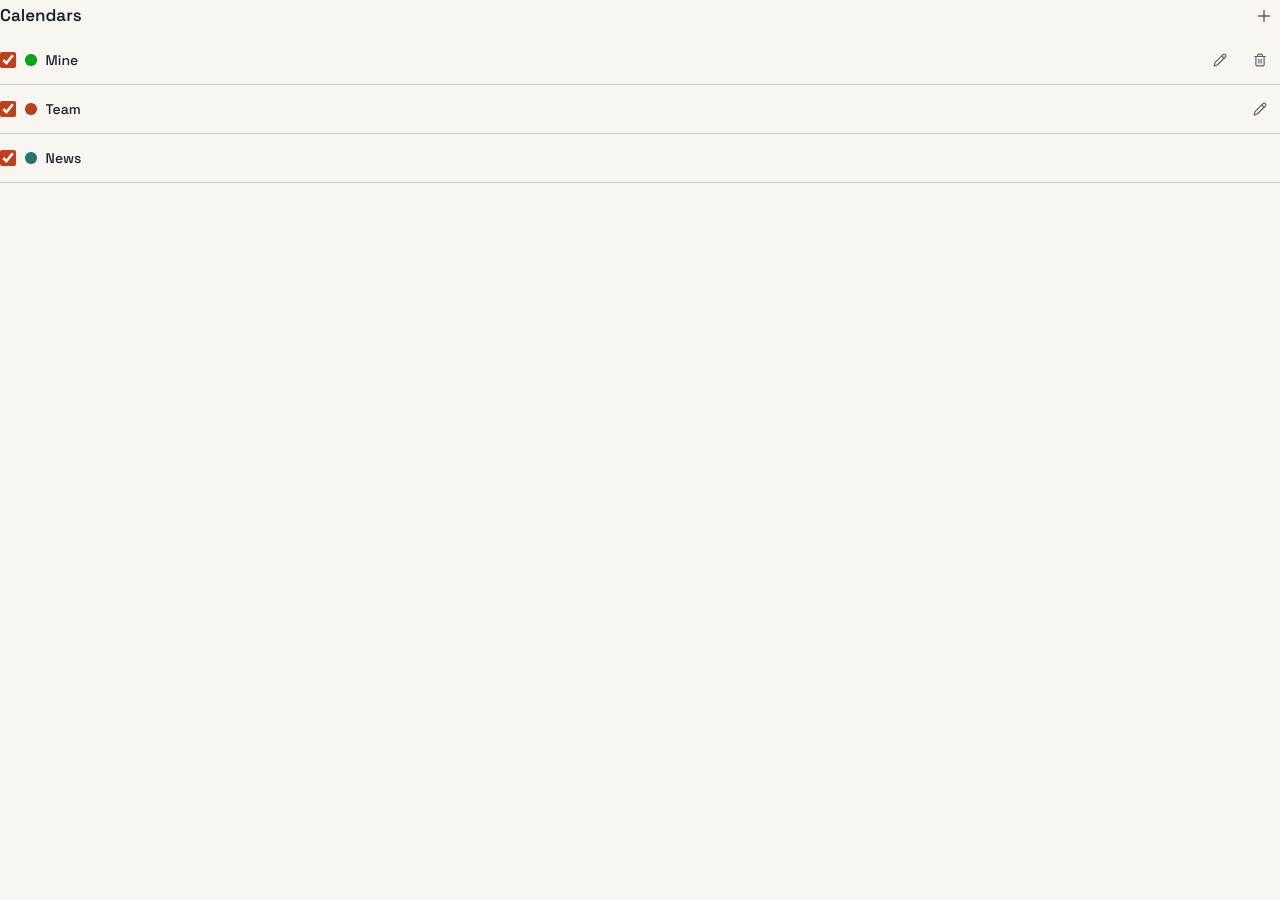
Test: CalendarSidebar › subscribes with the link, name and colour, and shows why a link failed
Click the button named "Add a calendar".
click(1264, 16)  # box [1248,0,1279,32]
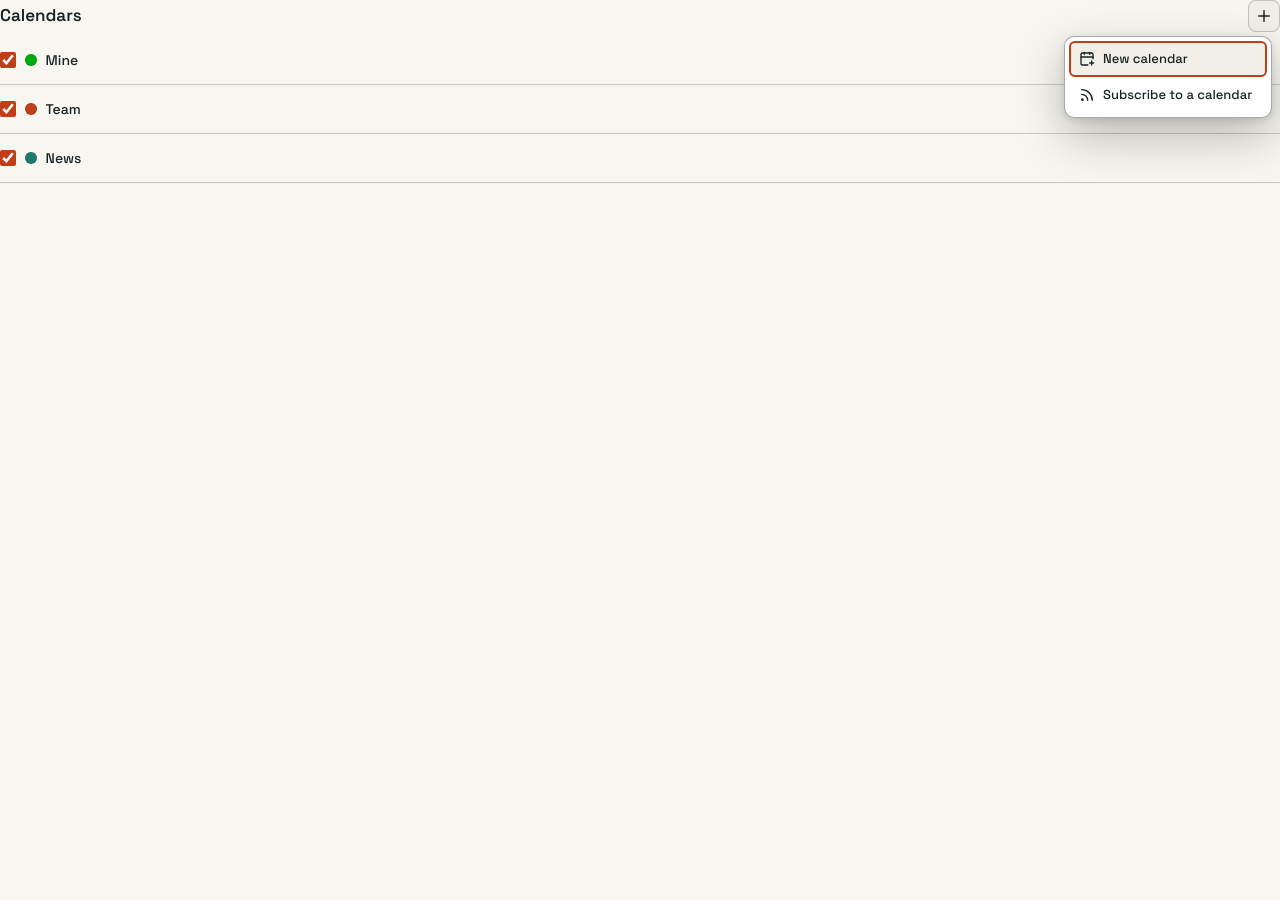
Click the menu item "Subscribe to a calendar".
click(1168, 95)  # box [1069,77,1267,113]
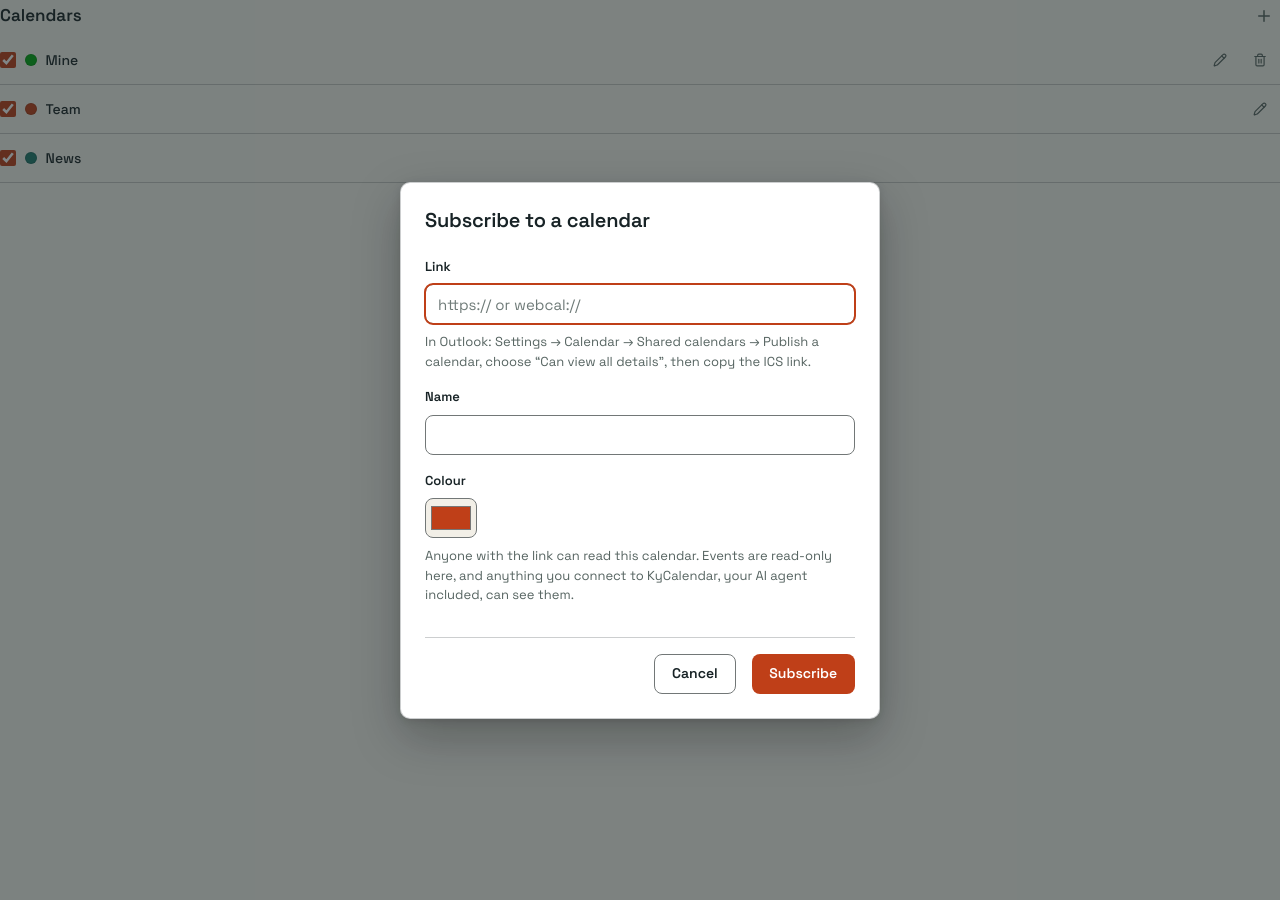
Expected: the dialog "Subscribe to a calendar" is shown, [400,182,880,718]
Type "webcal://outlook.office365.com/owa/calendar/x/reachcalendar.ics" into the field labelled "Link".
click(640, 304); type("webcal://outlook.office365.com/owa/calendar/x/reachcalendar.ics")  # box [425,284,855,324]
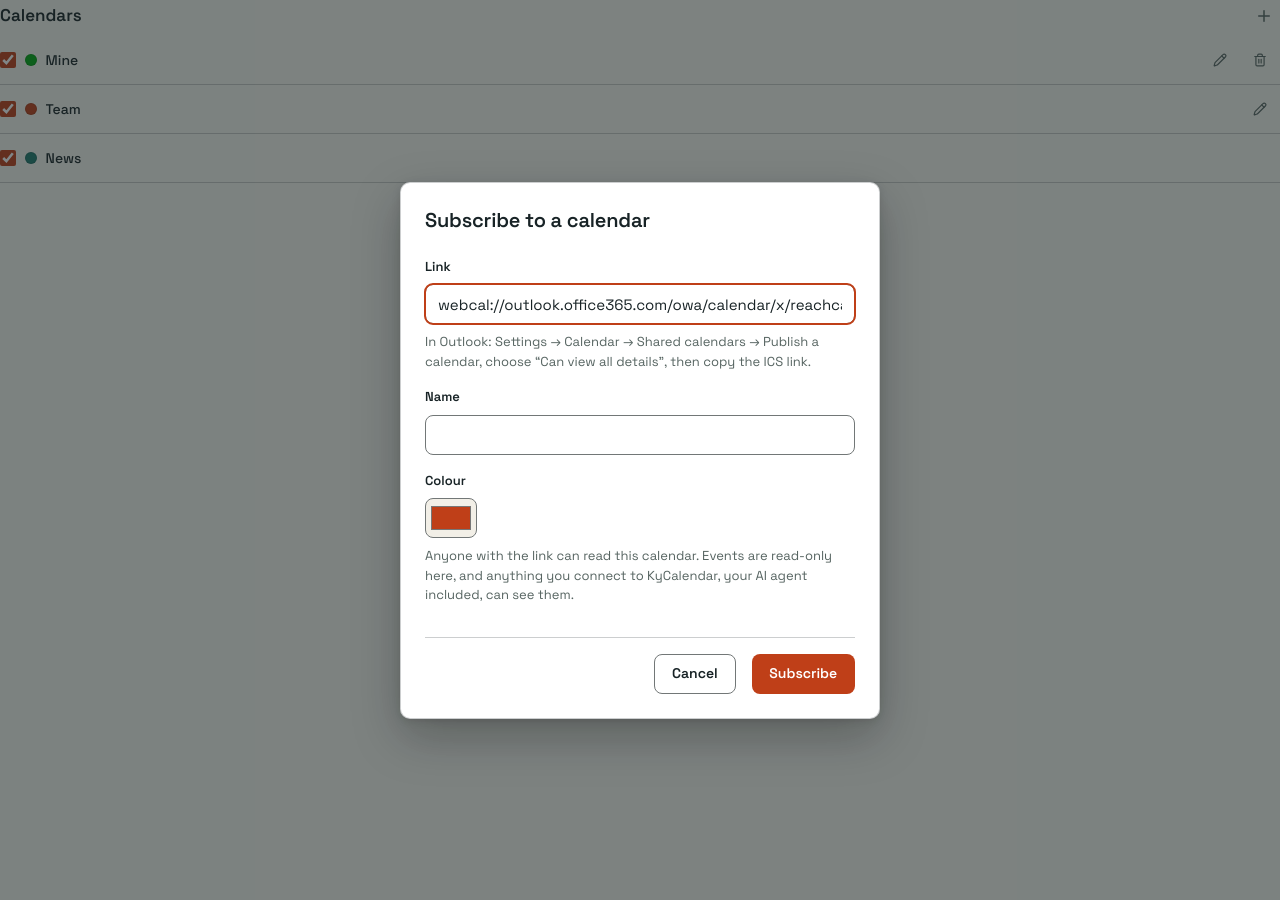
Type "Work" into the field labelled "Name".
click(640, 434); type("Work")  # box [425,414,855,454]
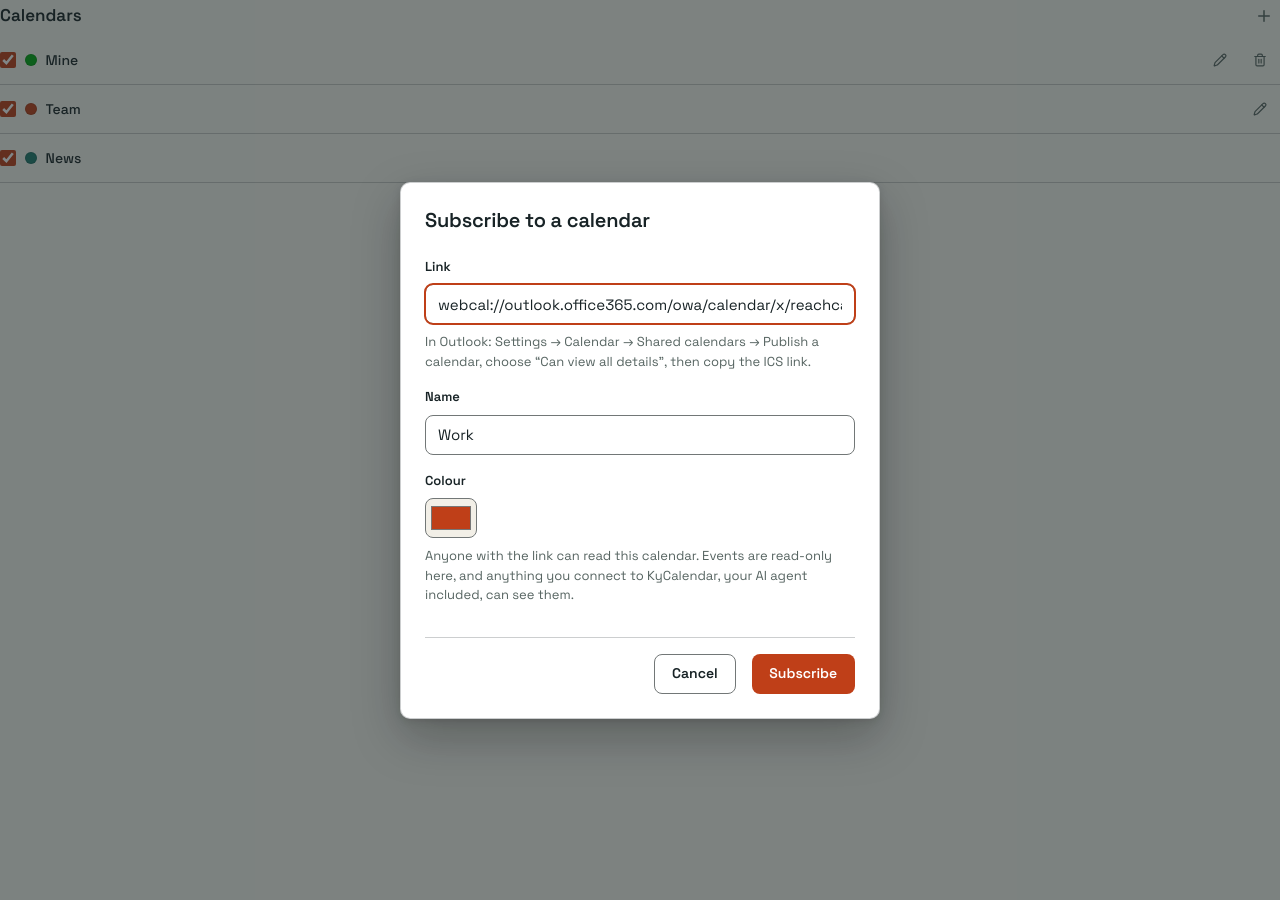
Click the button "Subscribe".
click(803, 674)  # box [752,654,855,694]
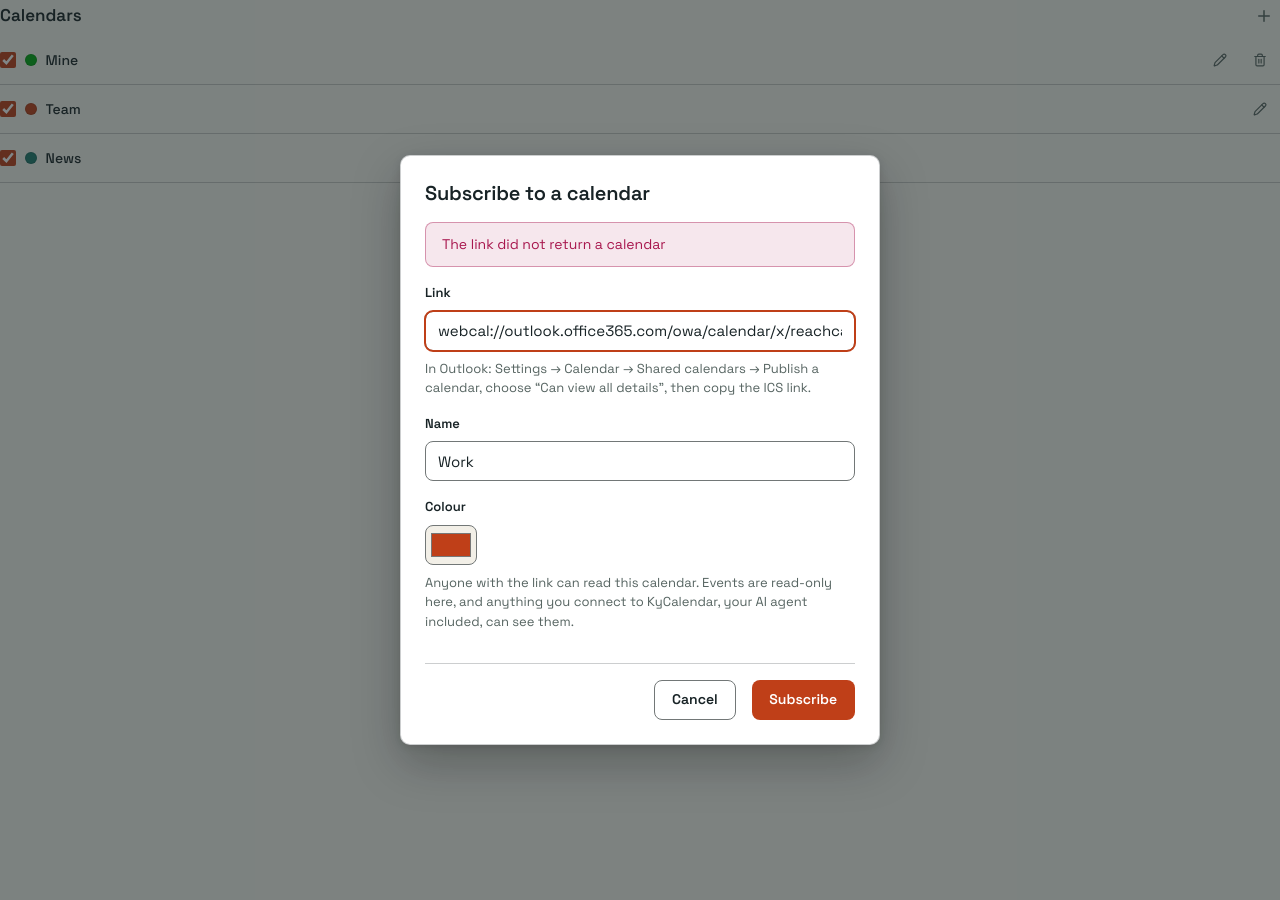
Expected: the button "Subscribe" is enabled, [752,680,855,720]
Expected: the message reads "The link did not return a calendar", [442,235,666,253]
